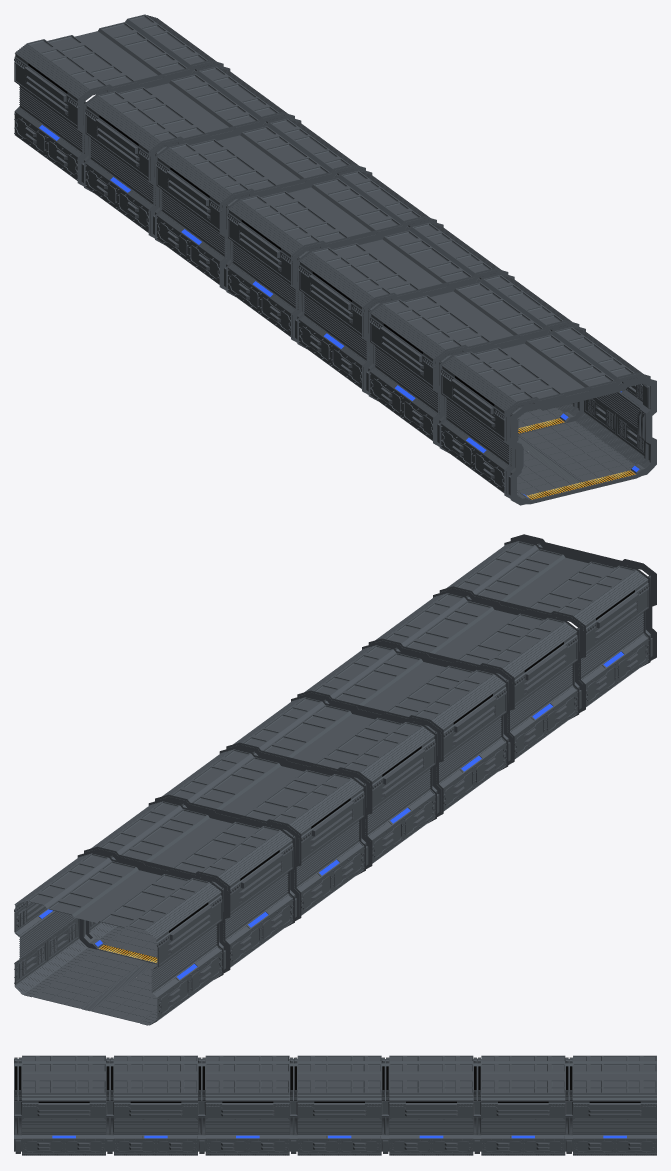
The model's file is Sci Fi Corridor.fbx.
The picture shows the model from 3 angles, top to bottom: view 1: azimuth 30°, elevation 25°; view 2: azimuth 150°, elevation 25°; view 3: azimuth 270°, elevation 25°; orthographic projection. The views are drawn at different scales.
Parts seen in each view (by area): view 1: Corridor, Corridor_2, Corridor_7, Corridor_6, Corridor_5, Corridor_4, Corridor_3, Floor, Other; view 2: Corridor_7, Corridor_6, Corridor_5, Corridor_3, Corridor_4, Corridor_2, Corridor, Floor_7, Other_13, Floor_6, Other_14; view 3: Corridor_4, Corridor_5, Corridor_6, Corridor_3, Corridor, Corridor_2, Corridor_7, Other_2, Other_4, Other_14, Other_6, Other_8 (+16 smaller).
Part boxes in pixels (x1=…): Corridor: x1=441, y1=327, x2=656, y2=505; Corridor_2: x1=370, y1=275, x2=585, y2=453; Corridor_7: x1=14, y1=14, x2=230, y2=192; Corridor_6: x1=85, y1=66, x2=301, y2=244; Corridor_5: x1=157, y1=118, x2=372, y2=296; Corridor_4: x1=228, y1=170, x2=443, y2=348; Corridor_3: x1=299, y1=222, x2=514, y2=400; Floor: x1=517, y1=421, x2=634, y2=495; Other: x1=442, y1=398, x2=644, y2=487; Corridor_7: x1=14, y1=846, x2=230, y2=1025; Corridor_6: x1=85, y1=794, x2=301, y2=971; Corridor_5: x1=160, y1=742, x2=372, y2=919; Corridor_3: x1=299, y1=638, x2=514, y2=815; Corridor_4: x1=230, y1=690, x2=443, y2=867; Corridor_2: x1=371, y1=586, x2=585, y2=762; Corridor: x1=441, y1=534, x2=656, y2=711; Floor_7: x1=23, y1=947, x2=157, y2=1025; Other_13: x1=16, y1=922, x2=220, y2=1013; Floor_6: x1=99, y1=925, x2=157, y2=956; Other_14: x1=16, y1=903, x2=210, y2=954; Corridor_4: x1=289, y1=1055, x2=381, y2=1155; Corridor_5: x1=381, y1=1055, x2=473, y2=1155; Corridor_6: x1=473, y1=1055, x2=565, y2=1155; Corridor_3: x1=198, y1=1055, x2=289, y2=1155; Corridor: x1=14, y1=1055, x2=105, y2=1155; Corridor_2: x1=106, y1=1055, x2=197, y2=1155; Corridor_7: x1=565, y1=1055, x2=656, y2=1155; Other_2: x1=36, y1=1109, x2=91, y2=1116; Other_4: x1=128, y1=1109, x2=183, y2=1116; Other_14: x1=587, y1=1109, x2=642, y2=1116; Other_6: x1=220, y1=1109, x2=275, y2=1116; Other_8: x1=312, y1=1109, x2=367, y2=1116.
Bounding box in the file's own units: 1318 × 847 × 7667.
10 materials, 7 textured.
